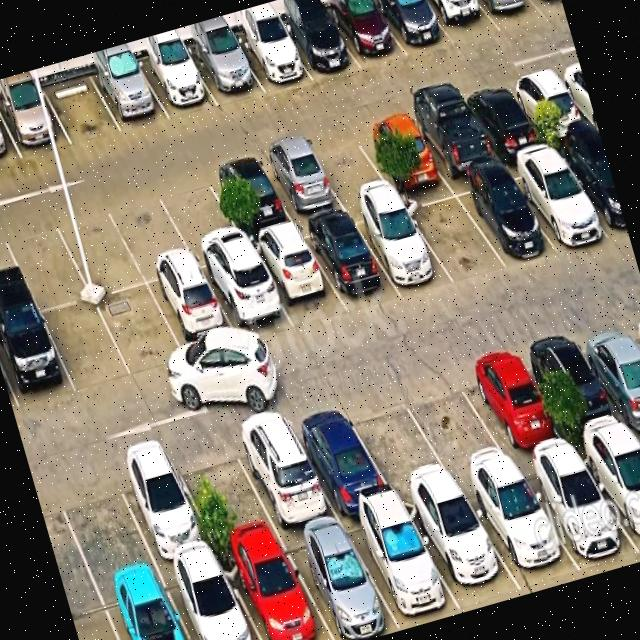empty: (394, 359, 516, 484), (166, 428, 279, 552), (339, 379, 456, 498), (49, 458, 156, 587), (400, 185, 506, 283), (153, 170, 249, 269), (51, 200, 146, 297), (106, 187, 198, 283), (0, 214, 91, 311), (95, 284, 188, 377), (41, 299, 131, 393), (303, 128, 392, 205), (42, 73, 121, 144)
occupied: (341, 502, 461, 630), (402, 487, 522, 608), (518, 452, 640, 571), (225, 406, 338, 534), (461, 468, 580, 589), (279, 521, 400, 640), (454, 343, 571, 466), (107, 442, 217, 568), (282, 396, 395, 516), (521, 325, 632, 447), (218, 538, 333, 640), (502, 149, 610, 249), (247, 227, 347, 330), (449, 169, 554, 266), (299, 212, 400, 312), (349, 199, 453, 294), (160, 554, 260, 640), (148, 270, 242, 361), (570, 313, 640, 430), (201, 256, 294, 344), (552, 136, 629, 238), (576, 431, 640, 552), (404, 97, 498, 178), (0, 309, 75, 410), (204, 155, 294, 239), (256, 141, 345, 221), (354, 112, 445, 188), (458, 80, 545, 157), (505, 67, 591, 141), (98, 571, 189, 640), (277, 9, 360, 80), (324, 0, 407, 69), (89, 61, 169, 132), (136, 50, 218, 119), (231, 25, 312, 92), (0, 86, 71, 158), (187, 38, 263, 105), (373, 0, 454, 56), (423, 0, 500, 46), (477, 0, 546, 30)
